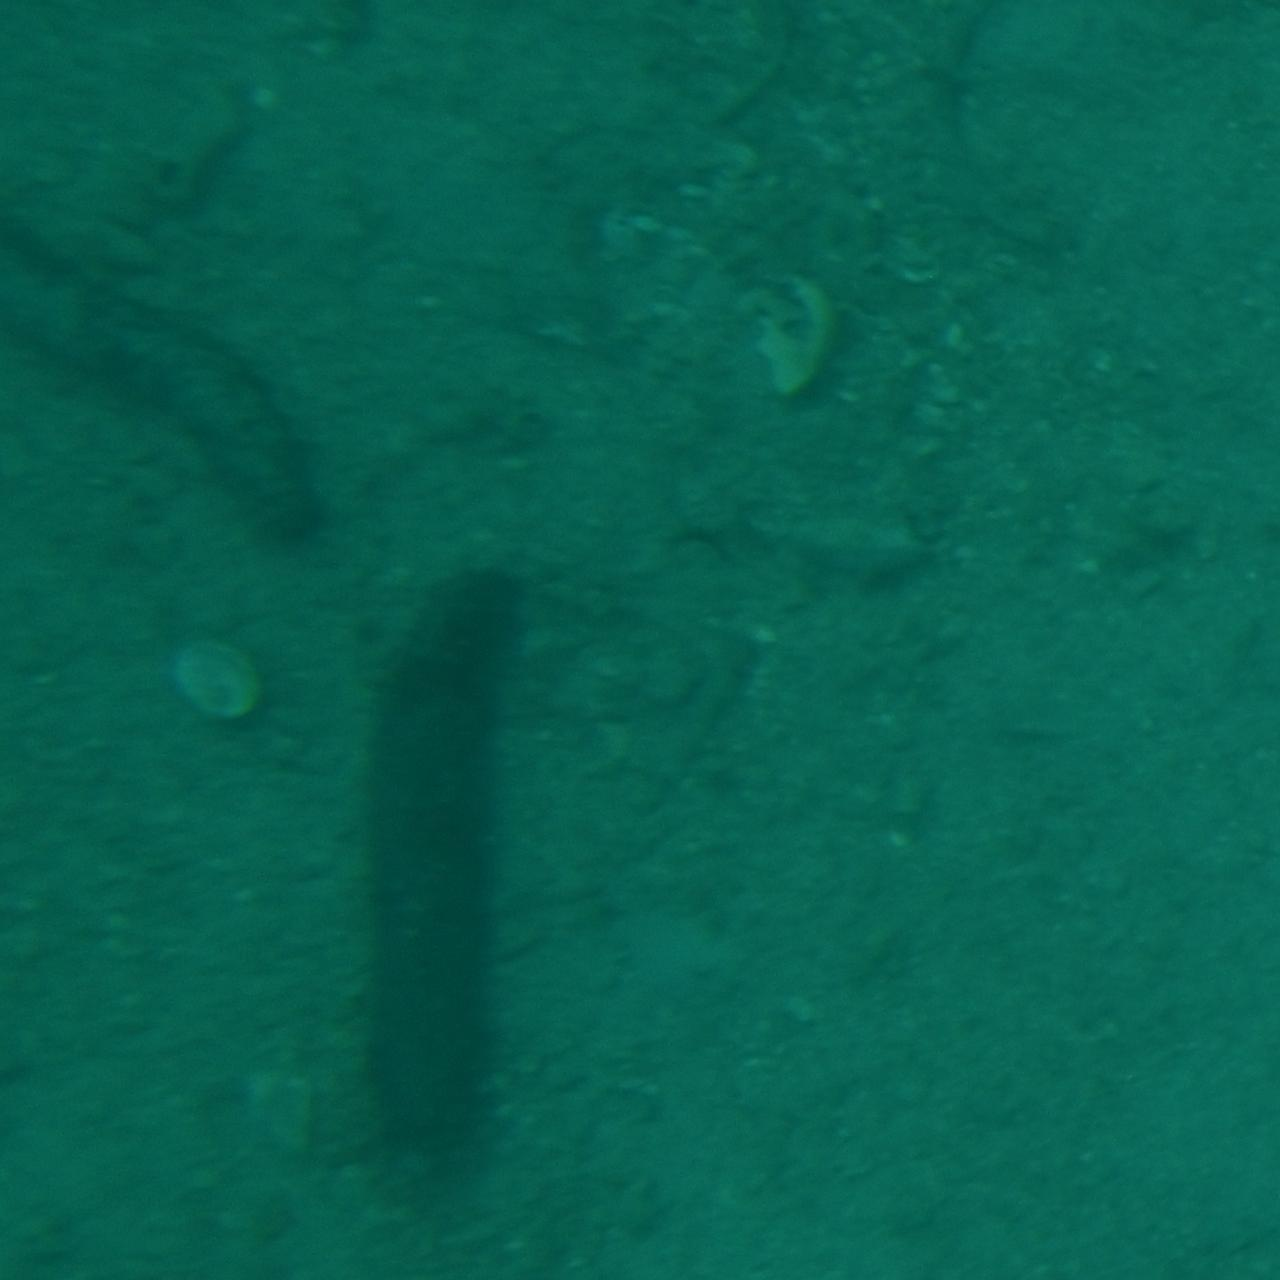Holothuria tubulosa: (335, 563, 543, 1228), (2, 216, 346, 552)
